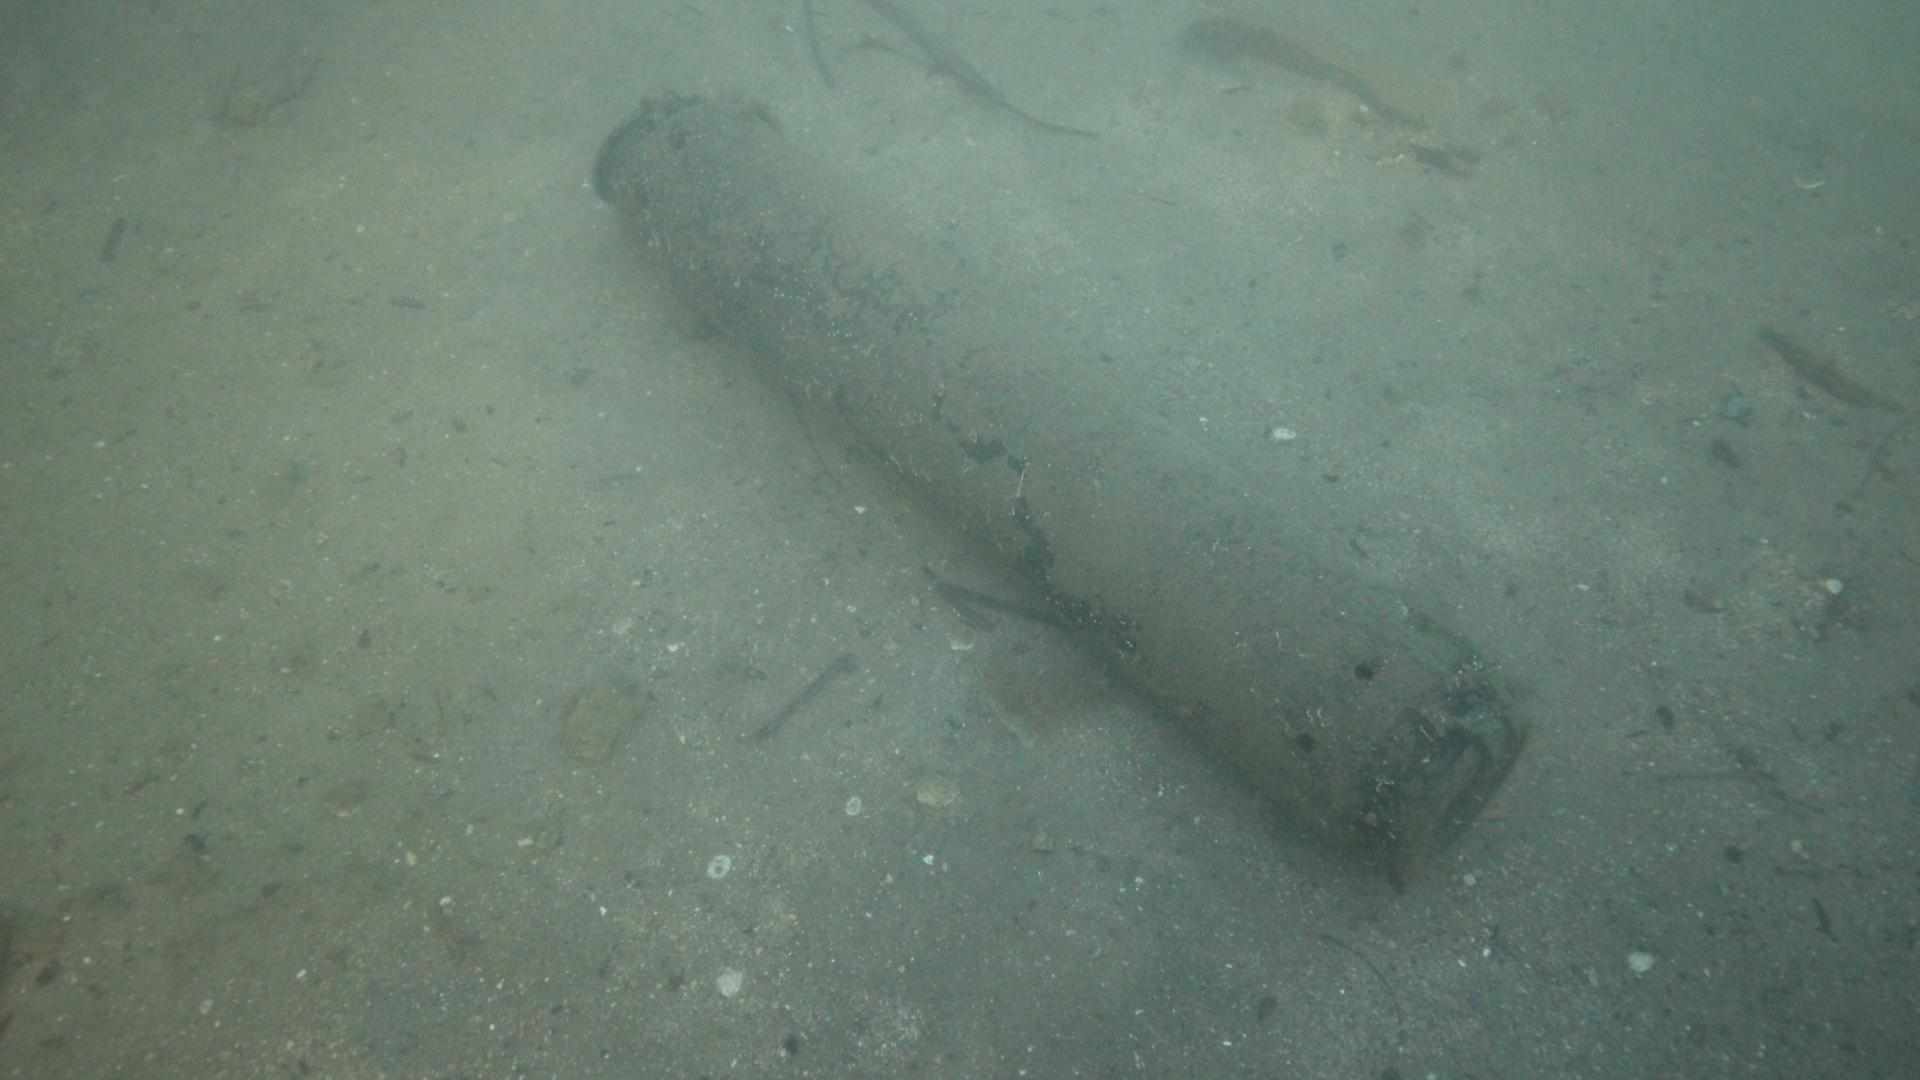eel fish trap: (595, 82, 1544, 887)
